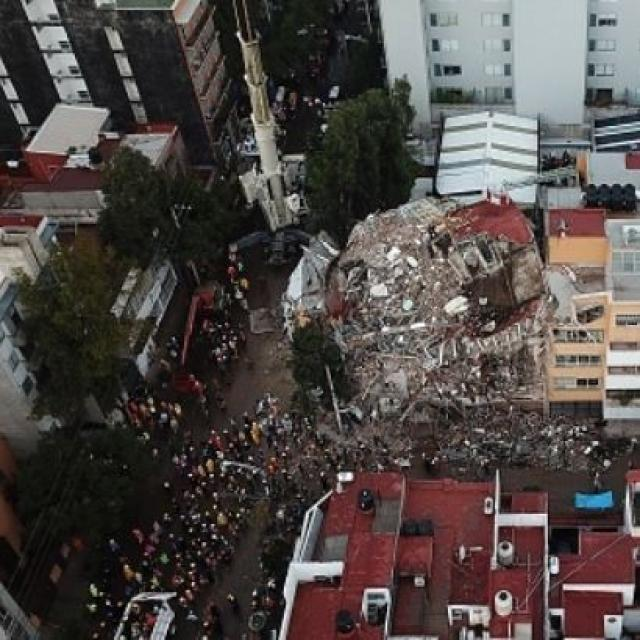collapsed_building: (279, 196, 542, 456)
